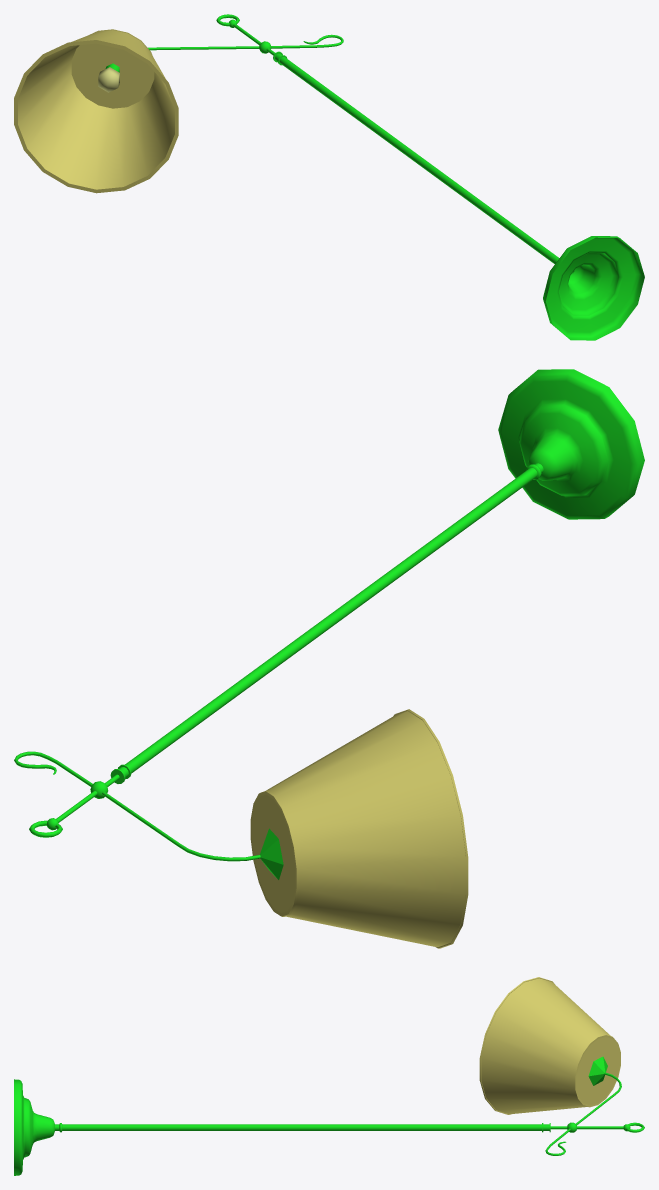
The model's file is torchere_3.FBX.
3 renders of one model, top to bottom at view 1: azimuth 30°, elevation 25°; view 2: azimuth 150°, elevation 25°; view 3: azimuth 270°, elevation 25°, orthographic. The views are drawn at different scales.
Parts seen in each view (by area): view 1: base.004; view 2: base.004; view 3: base.004.
Part boxes in pixels (box(x1,y1,x2,y2)): base.004: box(14, 14, 644, 340); base.004: box(14, 369, 644, 948); base.004: box(14, 977, 644, 1175).
Bounding box in the file's own units: 74.74 × 34.1 × 150.
